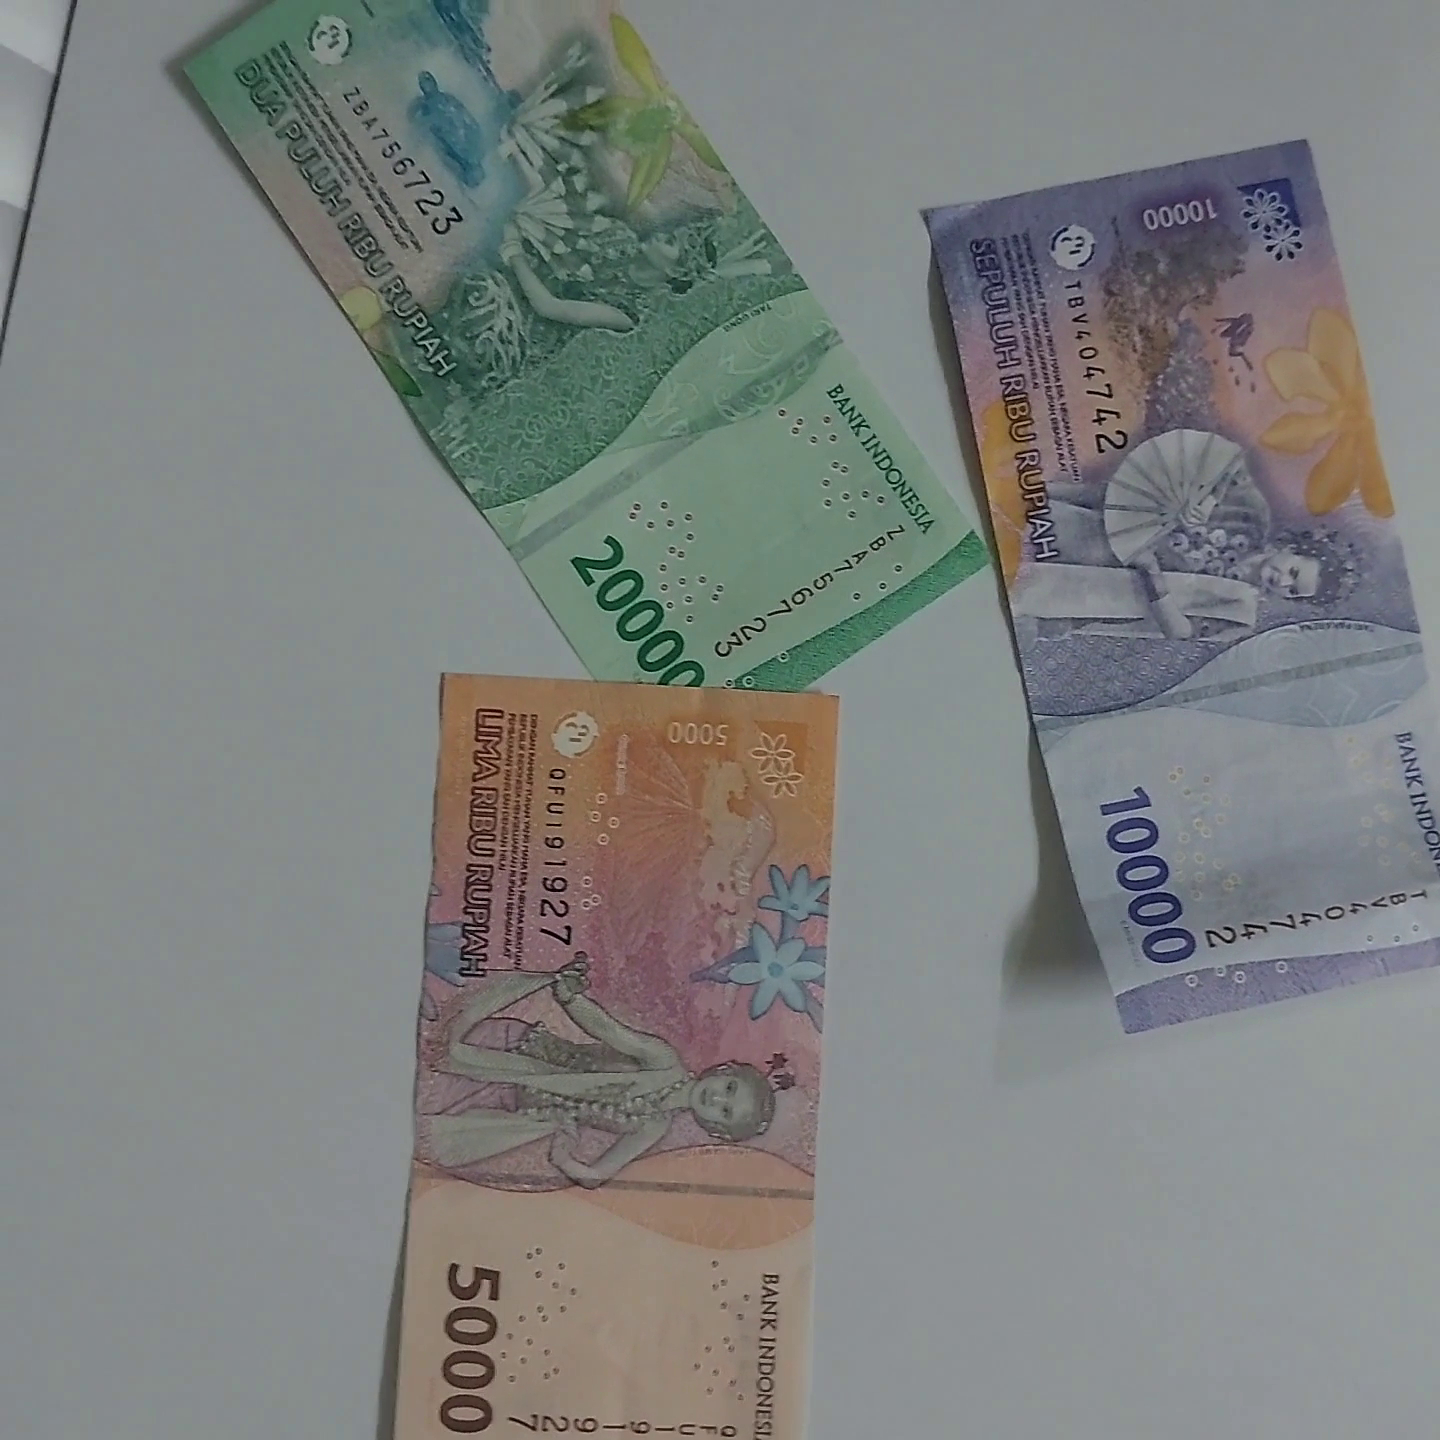10k: (851, 119, 1440, 1054)
20k: (119, 0, 1001, 712)
5k: (330, 599, 872, 1440)
